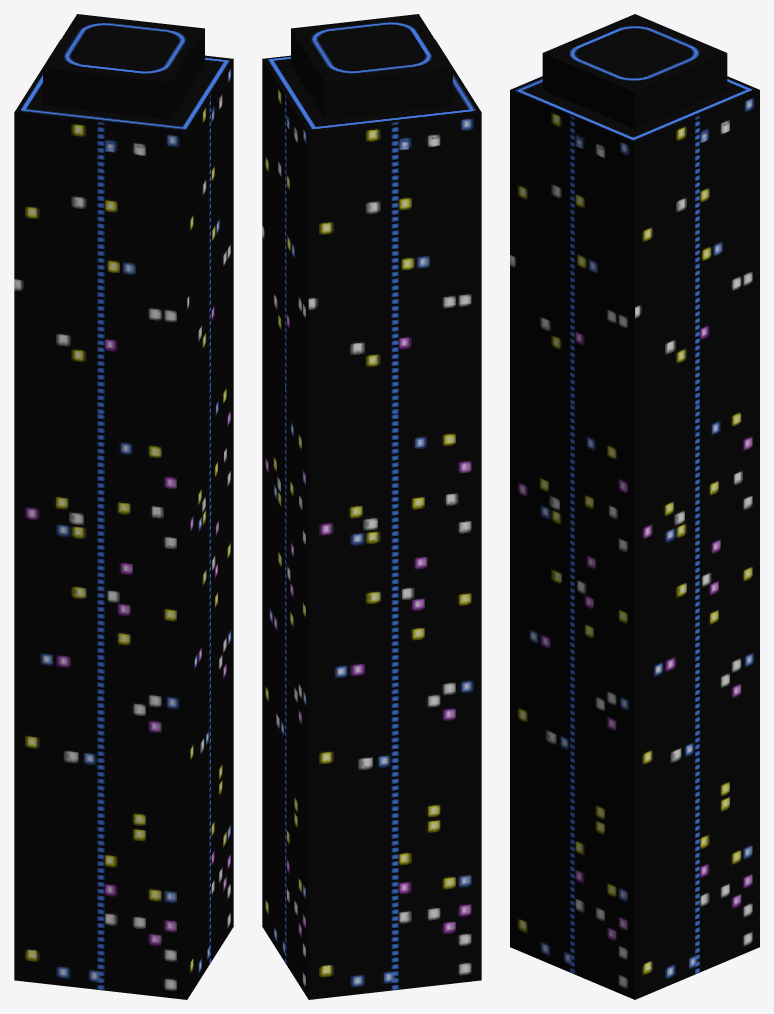
Rendered from bldg_013.fbx.
3 renders of one model, left to right at view 1: azimuth 30°, elevation 25°; view 2: azimuth 150°, elevation 25°; view 3: azimuth 270°, elevation 25°, orthographic.
Parts seen in each view (by area): view 1: bdlg_013; view 2: bdlg_013; view 3: bdlg_013.
Part boxes in pixels (x1=…): bdlg_013: x1=14, y1=14, x2=233, y2=999; bdlg_013: x1=262, y1=14, x2=481, y2=999; bdlg_013: x1=510, y1=14, x2=759, y2=999.
Bounding box in the file's own units: 197 × 777 × 197.
1 material, 1 textured.
